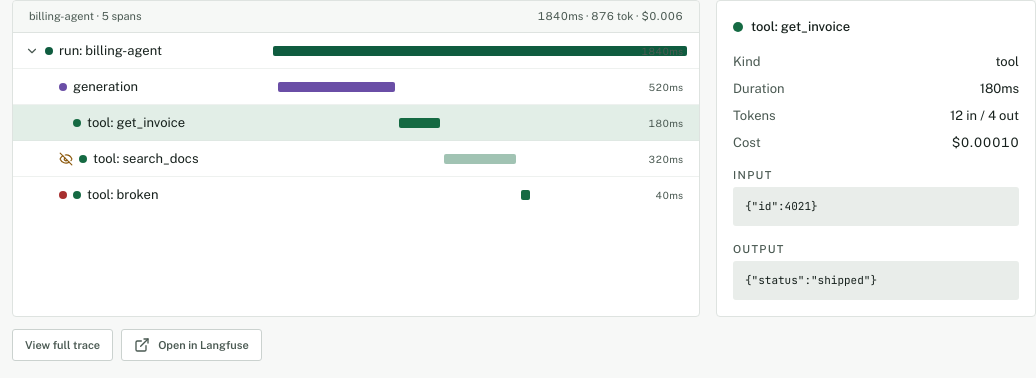
Test: RunInspector (native summary from flat spans) › shows the error dot for a status:error span
The width and height of the screenshot is (1036, 378).
Expected: the element with test id "span-error-dot-err" is shown, [59,190,67,198]
Step 1. Click the list item with test id "span-row-err" → {"x": 123, "y": 194}, box [13,177,699,212]
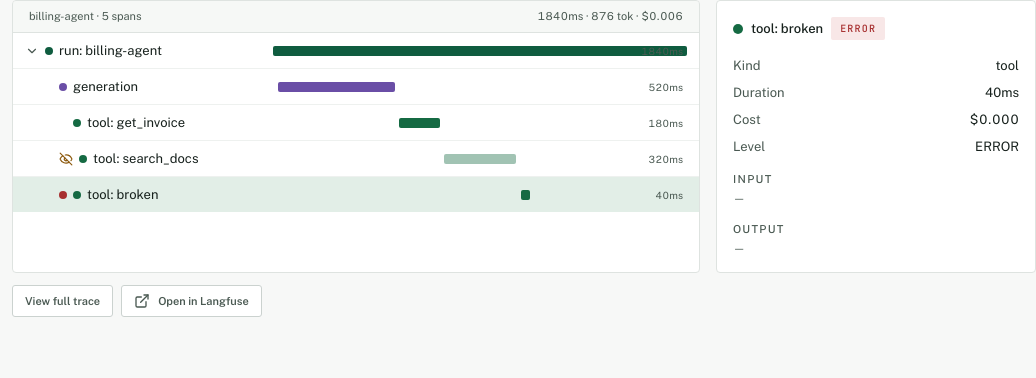
Now the text "error" is shown, box [831,17,885,40]
